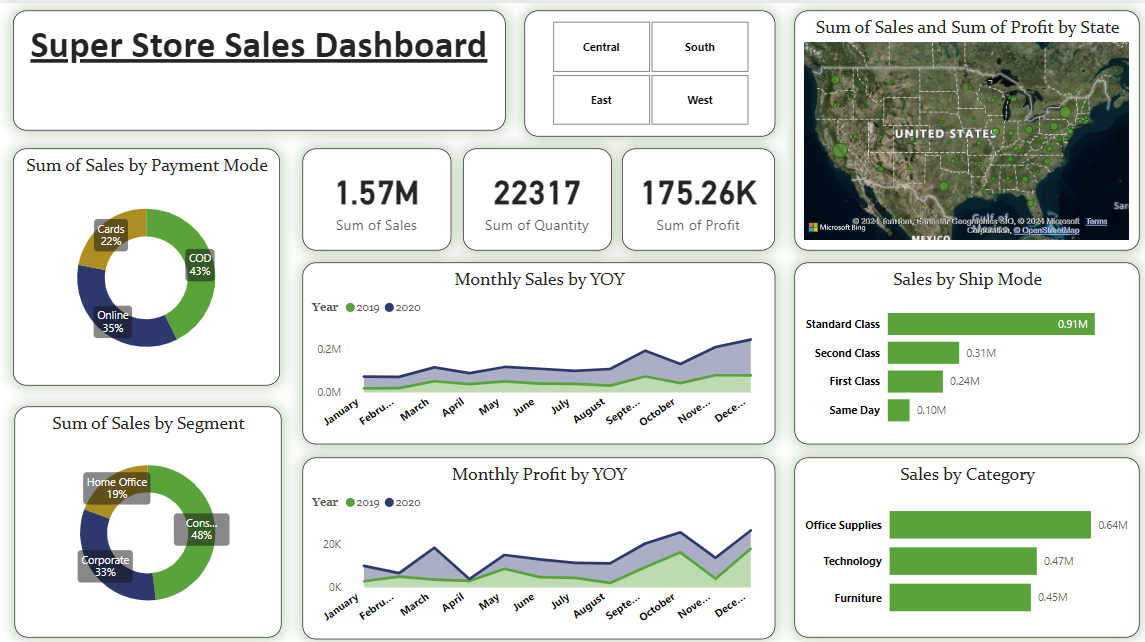

The dashboard page shown, as its layout file describes it:
{"tool":"powerbi","page":{"name":"Page 1","canvas":[1280,720],"ordinal":0},"visuals":[{"type":"clusteredBarChart","title":"Sales by Category","fields":{"Category":["Sheet1.Category"],"Y":["Sum(Sheet1.Sales)"]},"box":[885,505,383.3,200],"z":0},{"type":"clusteredBarChart","title":"Sales by Ship Mode","fields":{"Y":["Sum(Sheet1.Sales)"],"Category":["Sheet1.Ship Mode"]},"box":[885,288.3,383.3,201.7],"z":1000},{"type":"stackedAreaChart","title":"Monthly Sales by YOY","fields":{"Category":["Sheet1.Order Date.Variation.Date Hierarchy.Month","Sheet1.Order Date.Variation.Date Hierarchy.Day"],"Y":["Sum(Sheet1.Sales)"],"Series":["Sheet1.Order Date.Variation.Date Hierarchy.Year"]},"box":[338.3,288.3,525,201.7],"z":2000},{"type":"stackedAreaChart","title":"Monthly Profit by YOY","fields":{"Category":["Sheet1.Order Date.Variation.Date Hierarchy.Month","Sheet1.Order Date.Variation.Date Hierarchy.Day"],"Series":["Sheet1.Order Date.Variation.Date Hierarchy.Year"],"Y":["Sum(Sheet1.Profit)"]},"box":[338.3,505,525,201.7],"z":3000},{"type":"map","fields":{"Category":["Sheet1.State"],"Size":["Sum(Sheet1.Sales)"]},"box":[885,8.3,383.3,266.7],"z":4000},{"type":"donutChart","fields":{"Category":["Sheet1.Segment"],"Y":["Sum(Sheet1.Sales)"]},"box":[18.3,448.3,296.7,256.7],"z":5000},{"type":"donutChart","fields":{"Category":["Sheet1.Payment Mode"],"Y":["Sum(Sheet1.Sales)"]},"box":[16.7,161.7,296.7,263.3],"z":6000},{"type":"slicer","fields":{"Values":["Sheet1.Region"]},"box":[585,8.3,278.3,140],"z":7000},{"type":"textbox","box":[15.9,8,547.2,133.6],"z":8000},{"type":"card","fields":{"Values":["Sum(Sheet1.Sales)"]},"box":[338.3,161.7,165,113.3],"z":9000},{"type":"card","fields":{"Values":["Sum(Sheet1.Quantity)"]},"box":[516.7,161.7,165,113.3],"z":10000},{"type":"card","fields":{"Values":["Sum(Sheet1.Profit)"]},"box":[693.3,161.7,170,113.3],"z":11000}]}

Visuals, with their boxes in screenshot pixels (x1, y1, x2, y2), scaled from the page's 1280x720 canvas onto the 1145x642 screenshot:
"Sales by Category" clusteredBarChart: [792, 450, 1135, 629]
"Sales by Ship Mode" clusteredBarChart: [792, 257, 1135, 437]
"Monthly Sales by YOY" stackedAreaChart: [303, 257, 772, 437]
"Monthly Profit by YOY" stackedAreaChart: [303, 450, 772, 630]
map - Sheet1.State x Sum(Sheet1.Sales): [792, 7, 1135, 245]
donutChart - Sheet1.Segment x Sum(Sheet1.Sales): [16, 400, 282, 629]
donutChart - Sheet1.Payment Mode x Sum(Sheet1.Sales): [15, 144, 280, 379]
slicer - Sheet1.Region: [523, 7, 772, 132]
textbox: [14, 7, 504, 126]
card - Sum(Sheet1.Sales): [303, 144, 450, 245]
card - Sum(Sheet1.Quantity): [462, 144, 610, 245]
card - Sum(Sheet1.Profit): [620, 144, 772, 245]
